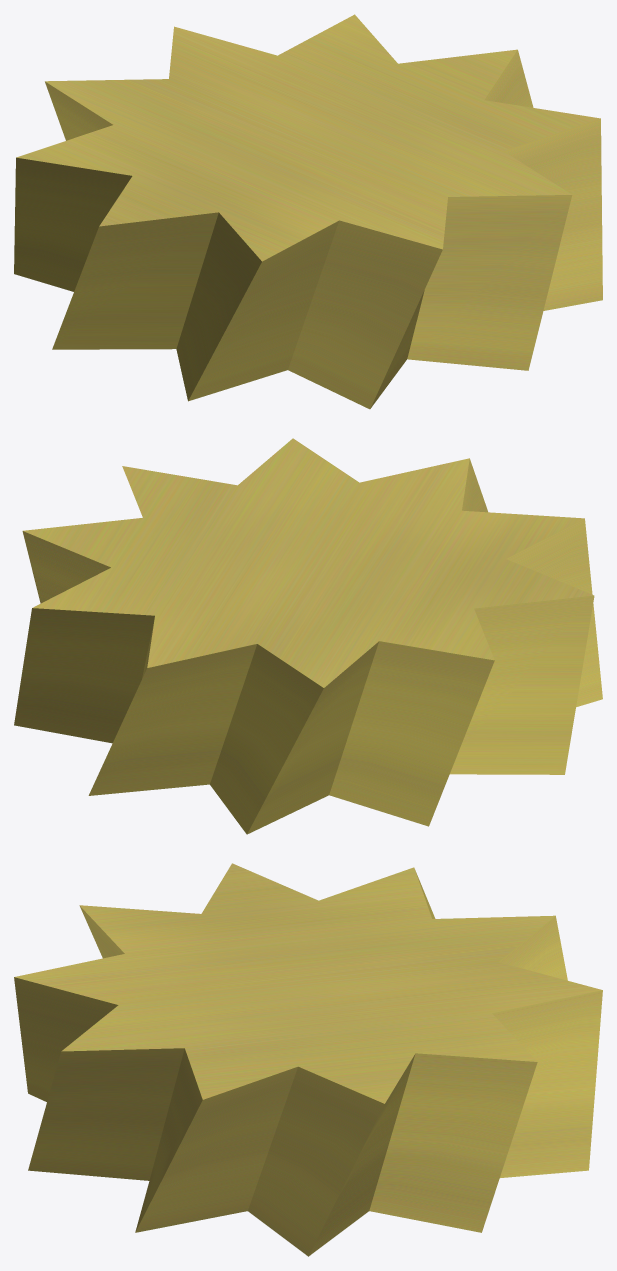
File: ClockStraightSpiralOpp010.fbx
3 views of the same model, one above another, from view 1: azimuth 30°, elevation 25°; view 2: azimuth 150°, elevation 25°; view 3: azimuth 270°, elevation 25° (orthographic).
Visible parts, largest first — view 1: ClockStraightSpiralOpp010; view 2: ClockStraightSpiralOpp010; view 3: ClockStraightSpiralOpp010.
Part boxes in pixels (x1,y1,x2,y2): ClockStraightSpiralOpp010: [14, 14, 602, 409]; ClockStraightSpiralOpp010: [14, 438, 602, 834]; ClockStraightSpiralOpp010: [14, 863, 602, 1256].
Bounding box in the file's own units: 70.87 × 19.69 × 70.77.
